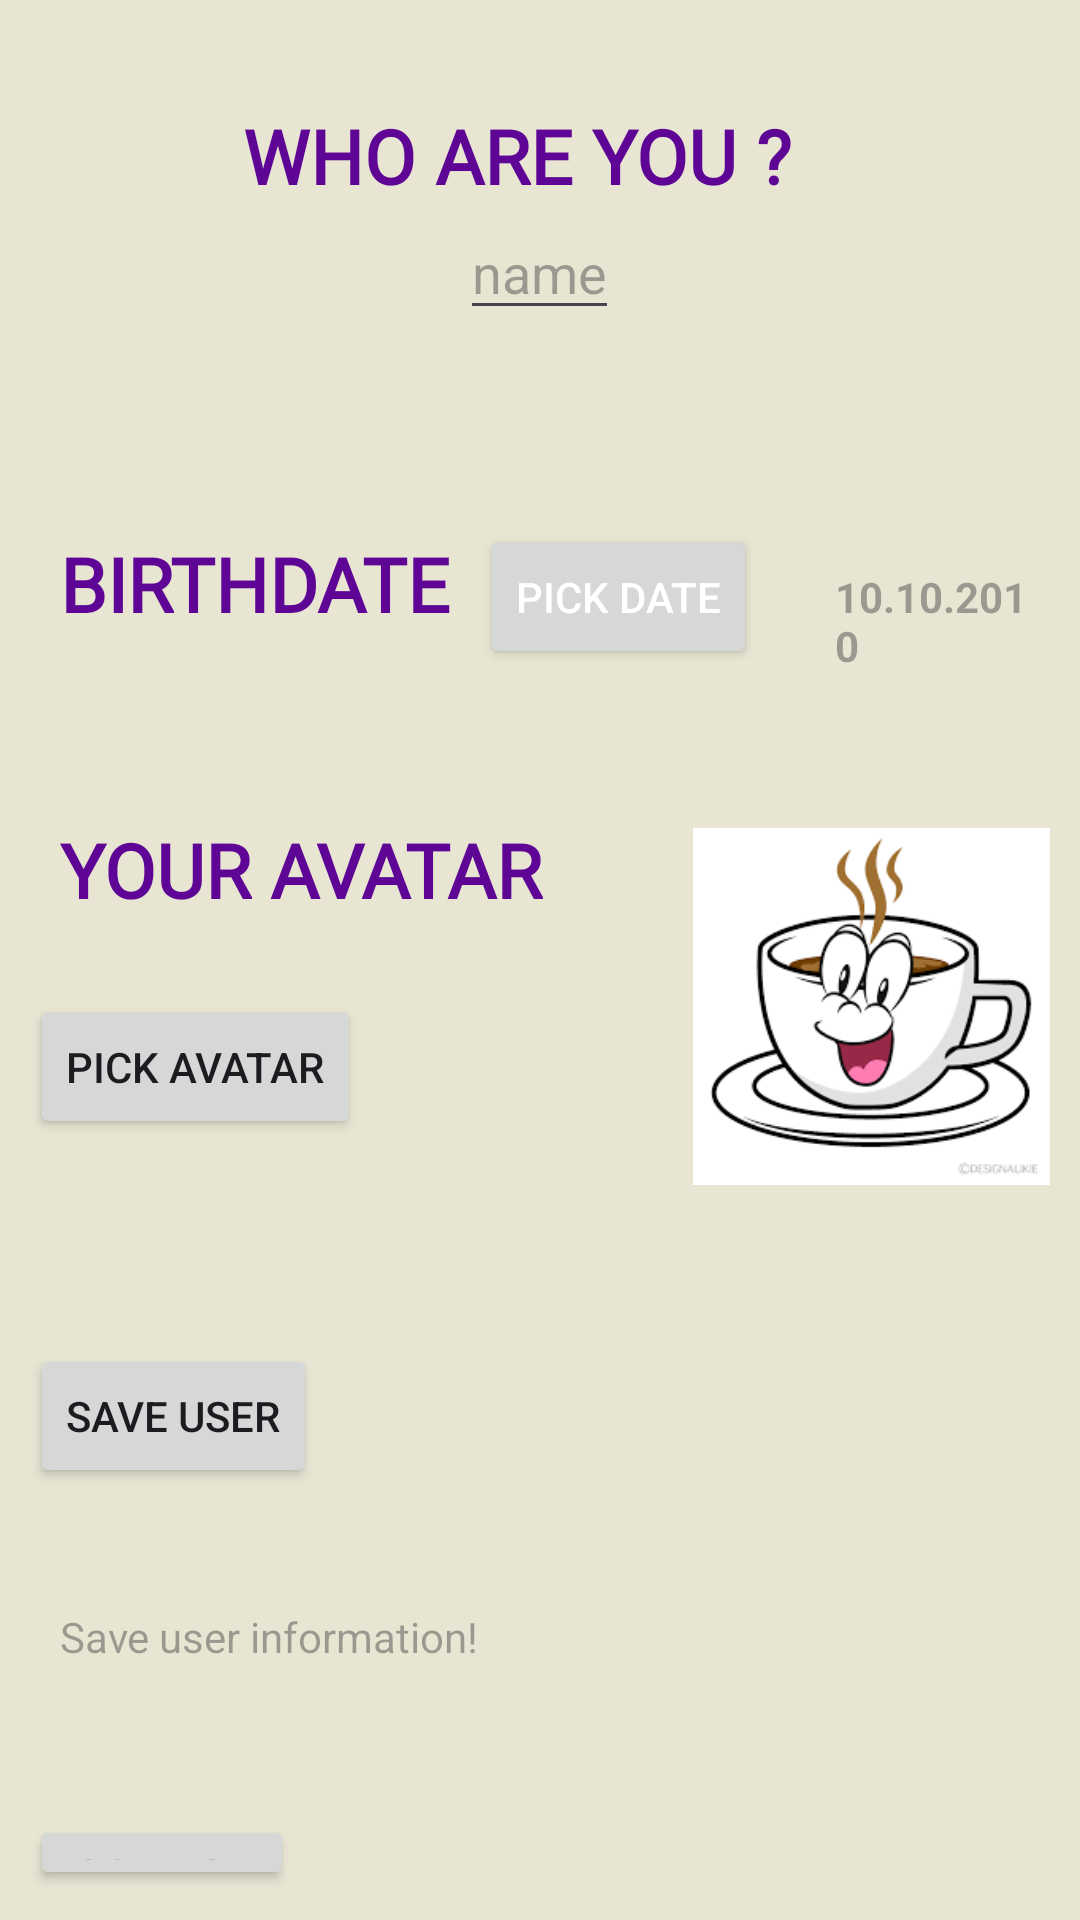

Named icons in this screenshot (1080*1920) and their bounding boxes, (left=x1, top=y1, right=x2, bottom=y2):
coffee: (left=693, top=828, right=1050, bottom=1185)
